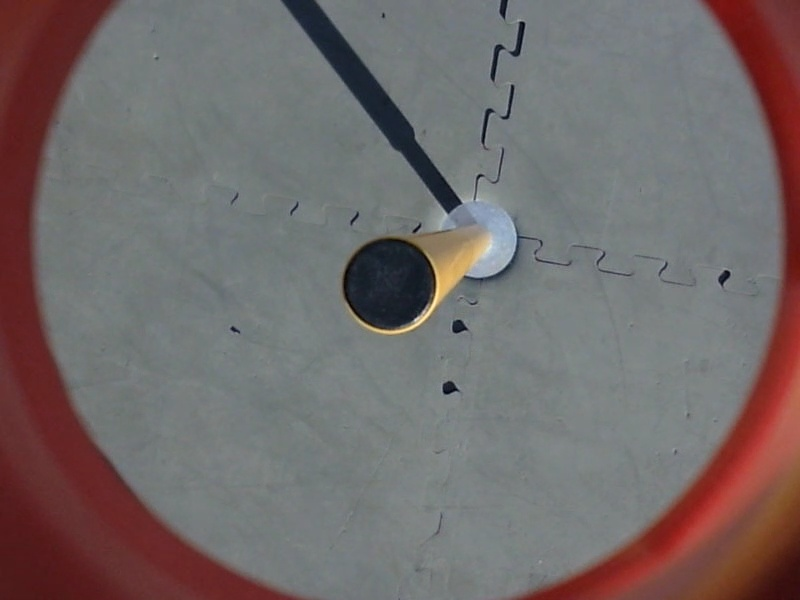tip: (340, 231, 446, 334)
